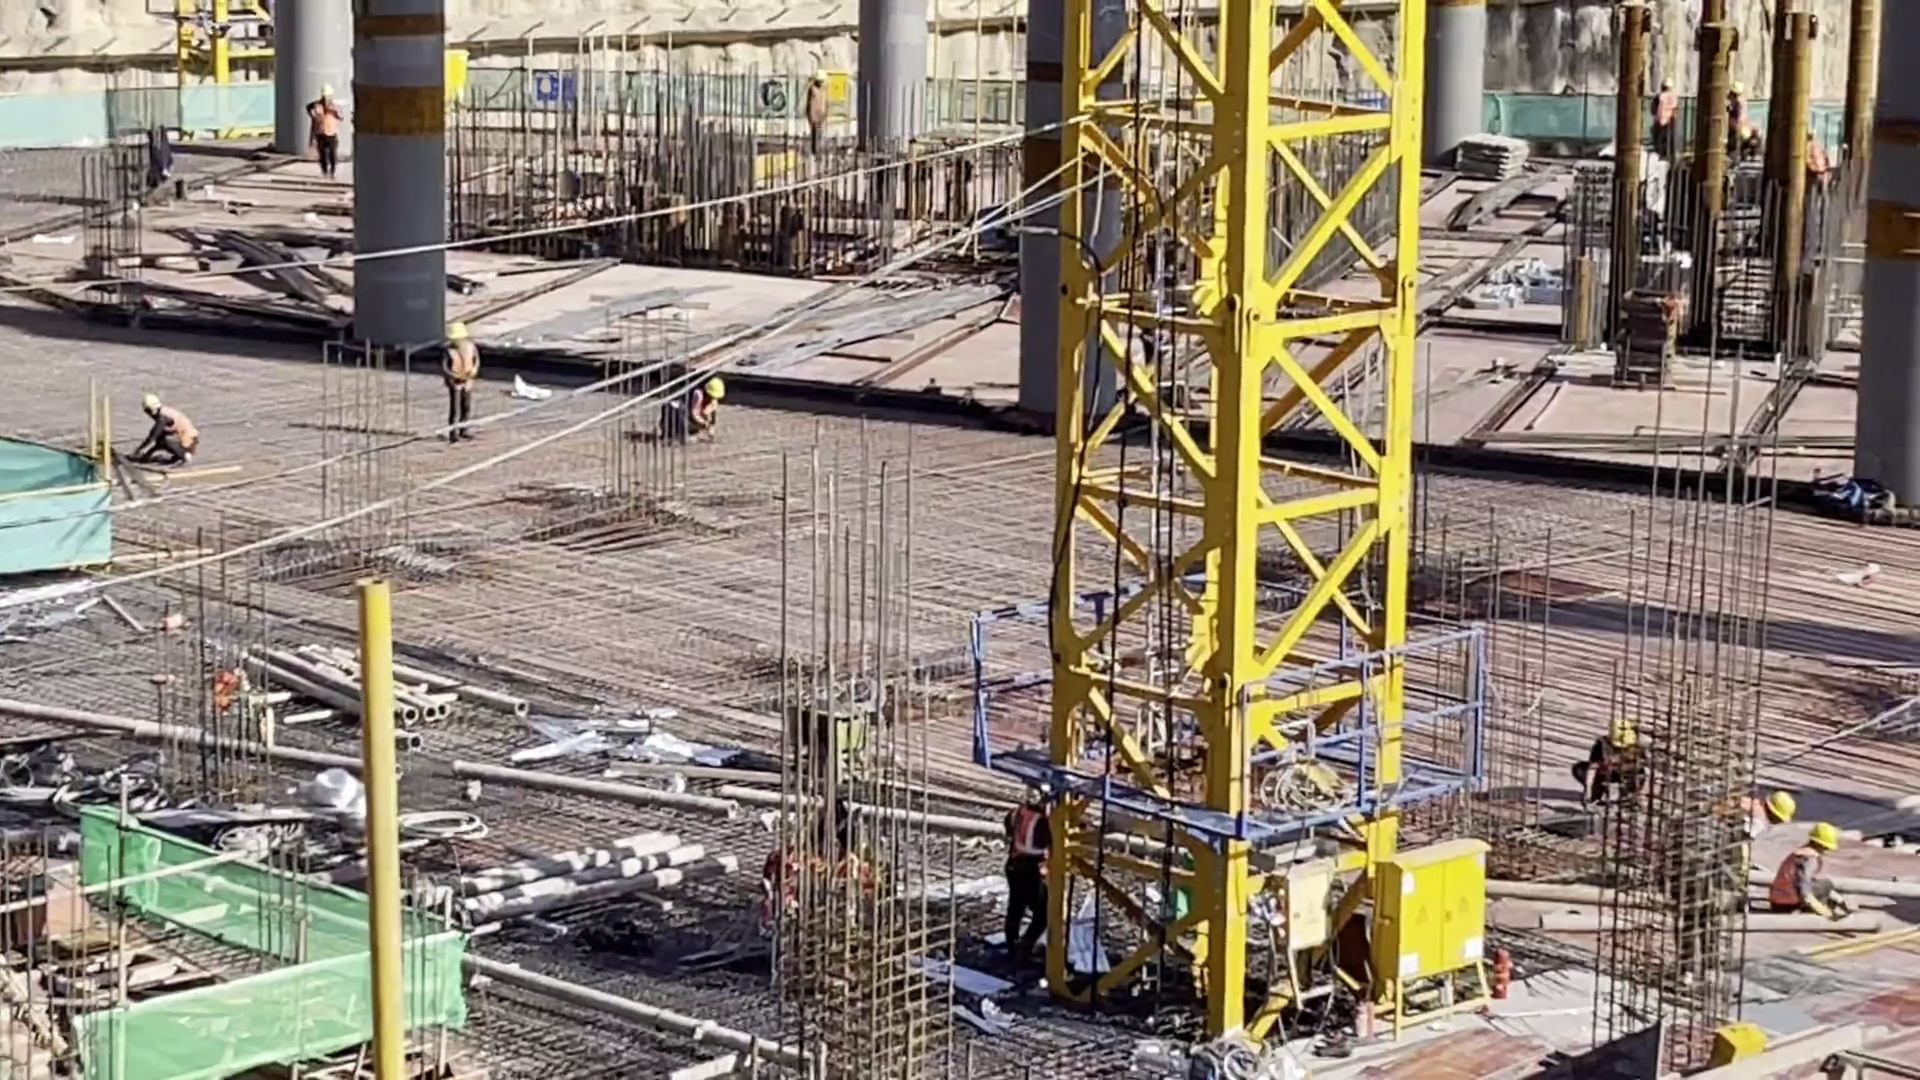ebox: (1375, 849, 1493, 991)
helmet: (1766, 791, 1795, 823), (1808, 824, 1838, 850), (443, 323, 468, 341), (705, 379, 724, 398), (143, 395, 160, 412), (319, 84, 334, 96), (814, 69, 828, 80)
person: (998, 777, 1051, 972), (1774, 825, 1848, 921), (1720, 790, 1795, 862), (132, 399, 200, 468), (1577, 722, 1636, 800), (442, 322, 478, 449), (658, 374, 721, 441), (309, 84, 339, 183), (805, 70, 828, 150), (1655, 77, 1677, 160), (1729, 84, 1750, 158)
vest: (1771, 850, 1808, 906), (1005, 808, 1040, 862), (163, 410, 194, 454), (308, 101, 338, 145), (447, 342, 475, 387)
